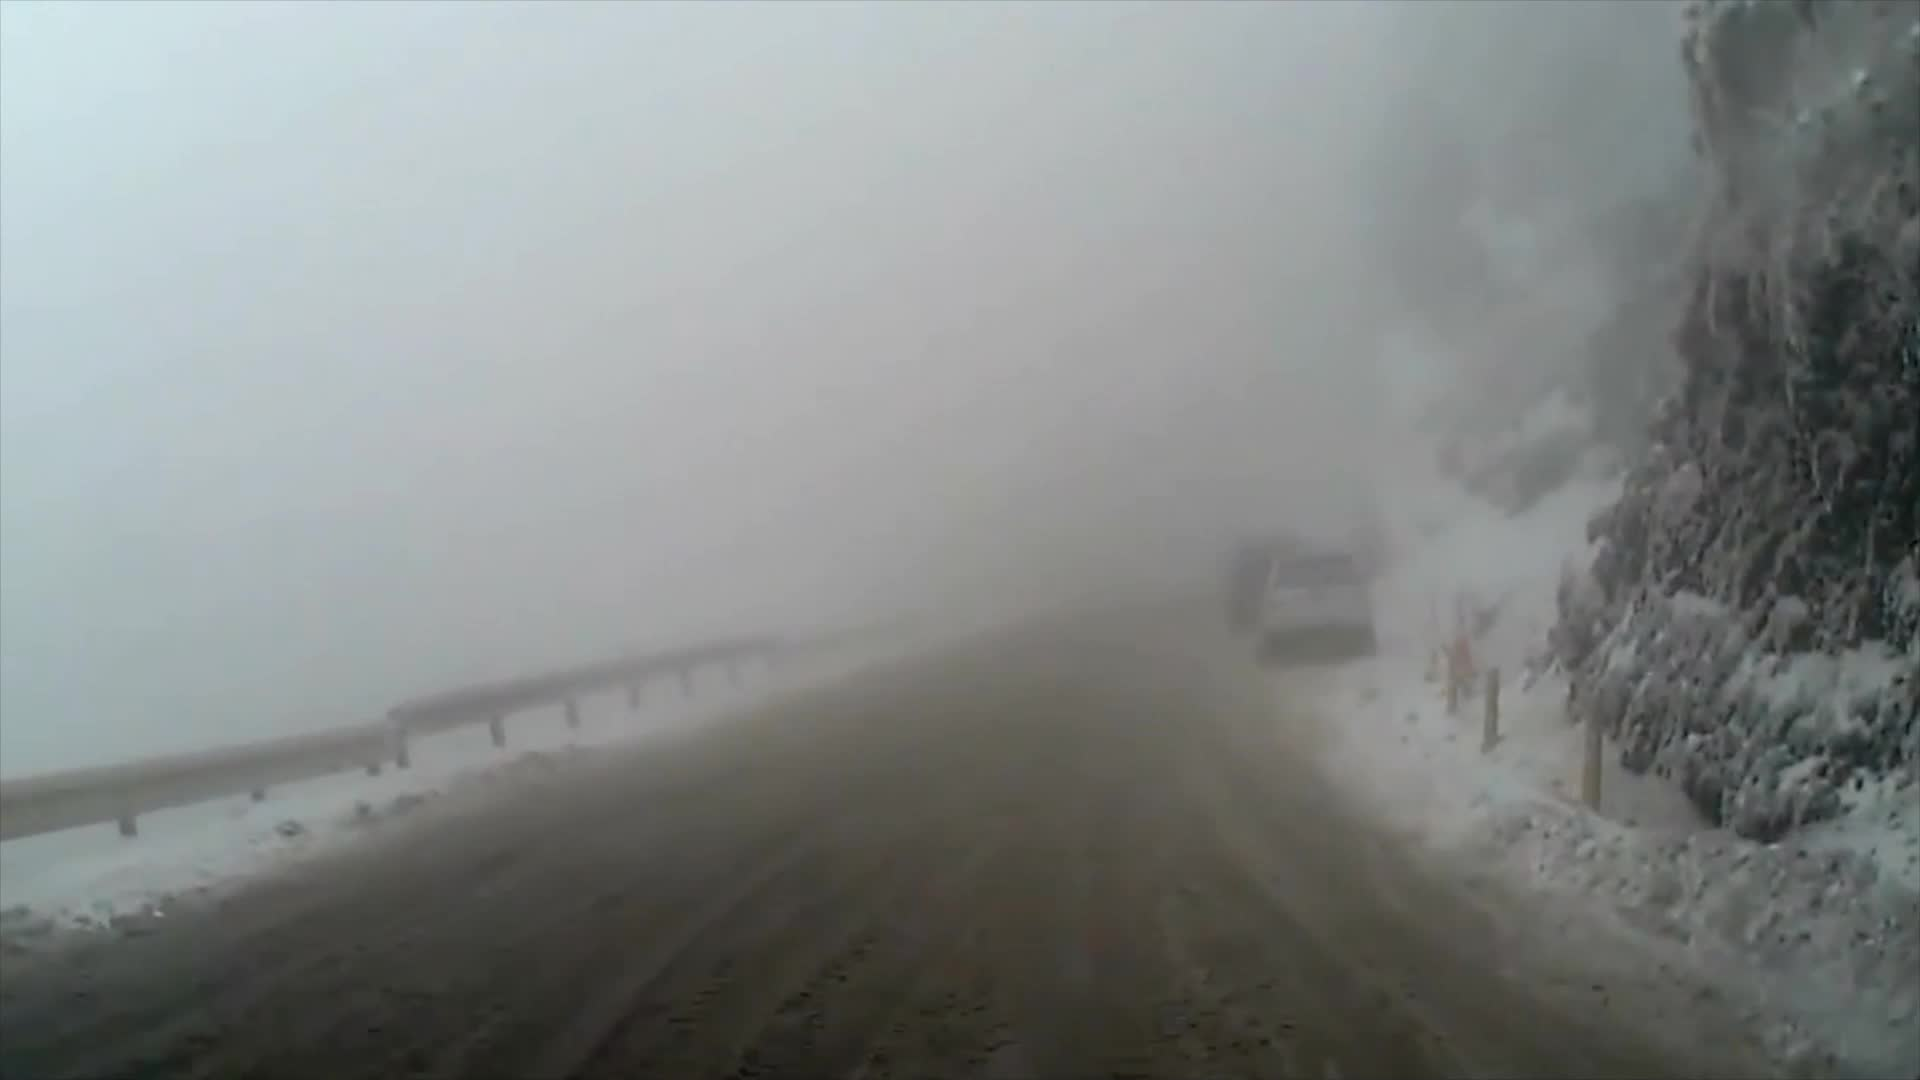vehicle: (1255, 549, 1373, 665)
